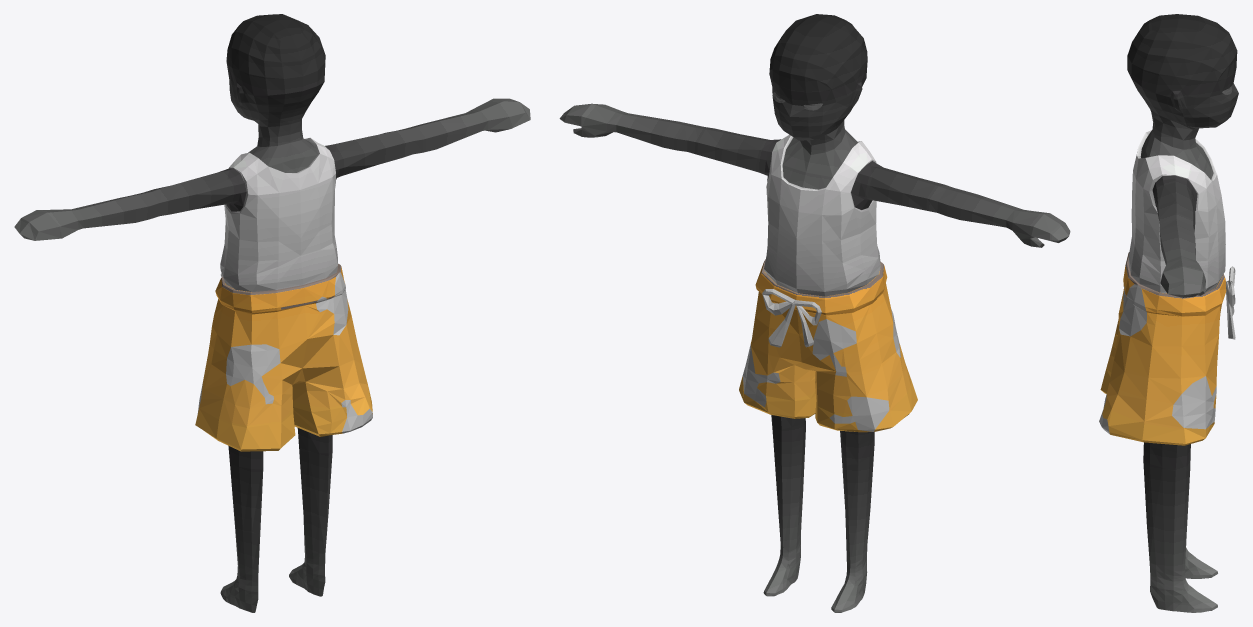
File: CharSkyKid_Body_SwimTrunks.glb
3 renders of one model, left to right at view 1: azimuth 30°, elevation 25°; view 2: azimuth 150°, elevation 25°; view 3: azimuth 270°, elevation 25°, orthographic.
Parts seen in each view (by area): view 1: CharSkyKid_Body_SwimTrunks; view 2: CharSkyKid_Body_SwimTrunks; view 3: CharSkyKid_Body_SwimTrunks.
Part boxes in pixels (bbox=[...]): CharSkyKid_Body_SwimTrunks: bbox=[14, 14, 530, 612]; CharSkyKid_Body_SwimTrunks: bbox=[559, 14, 1070, 612]; CharSkyKid_Body_SwimTrunks: bbox=[1099, 14, 1238, 612].
Size of the model in its own units: 13.83 by 14.94 by 3.3.
1 material, 1 textured.
